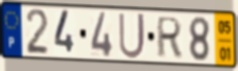2: (24, 8, 51, 57)
4: (53, 8, 78, 58), (89, 11, 114, 60)
8: (187, 16, 212, 63)
R: (155, 16, 184, 60)
U: (117, 11, 147, 61)
